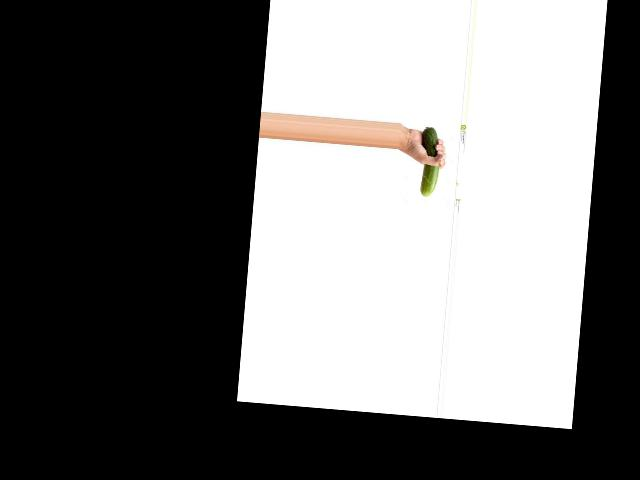cucumber: (418, 127, 443, 197)
